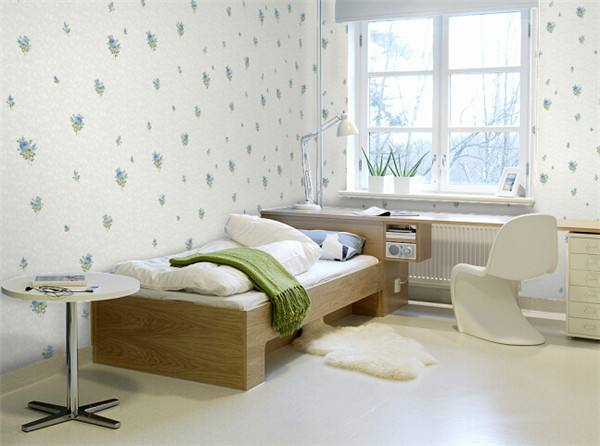床: (90, 243, 392, 391)
枕头: (287, 225, 361, 260)
灯: (291, 103, 363, 210)
